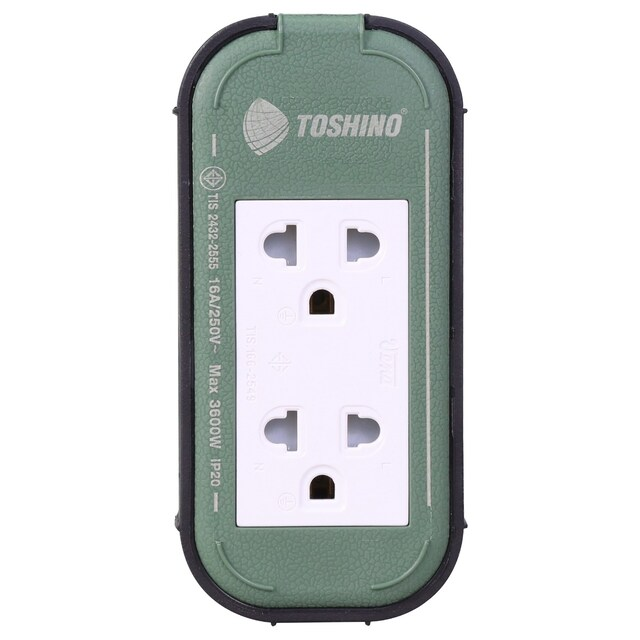Three_eye_plug: (163, 5, 475, 629)
